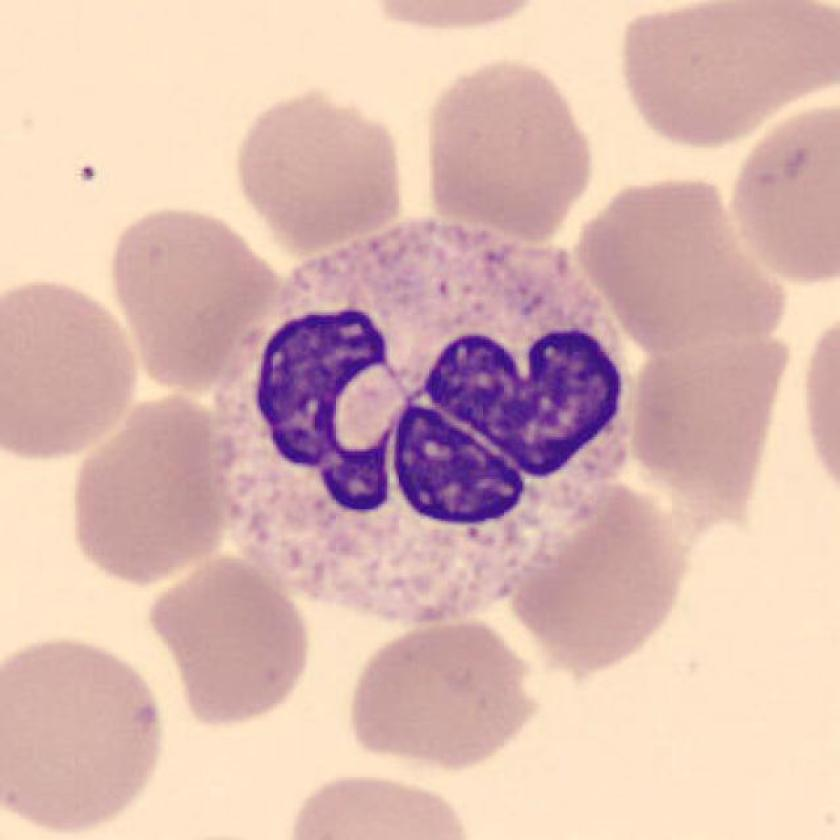neutrophil: (222, 218, 629, 621)
